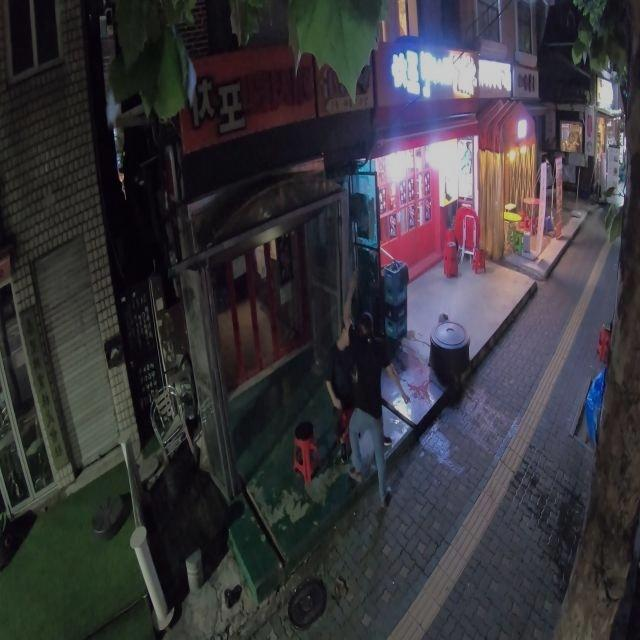fight: (325, 296, 395, 511)
